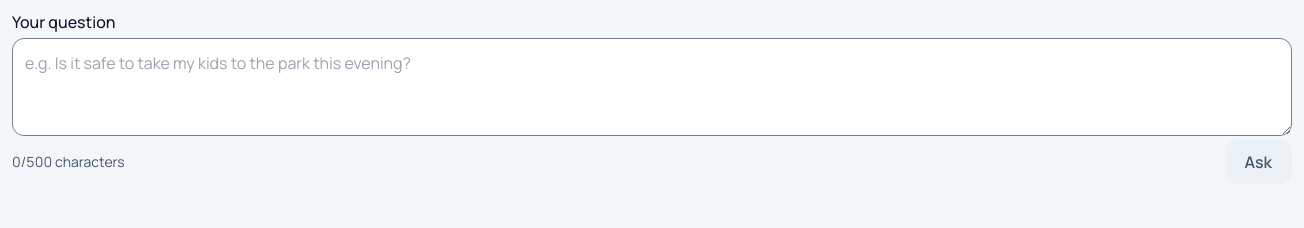
ChatPanel › shows the API error and restores the draft
Type "Hello" into the text box labelled "Your question" at coordinates (652, 87), box [12, 38, 1292, 136]
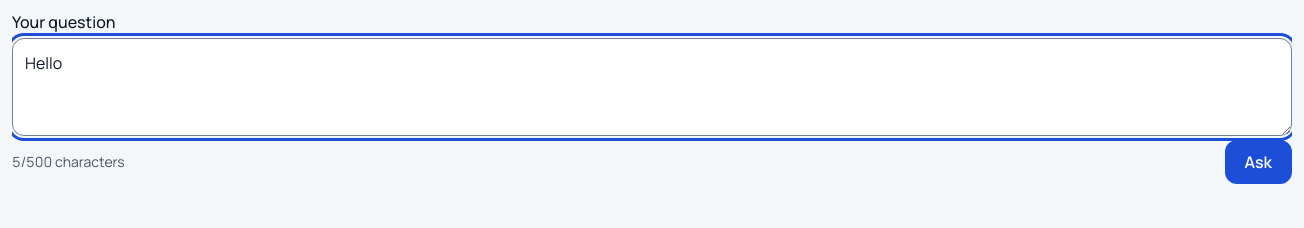
Click the button "Ask" at coordinates (1258, 162), box [1224, 140, 1292, 184]
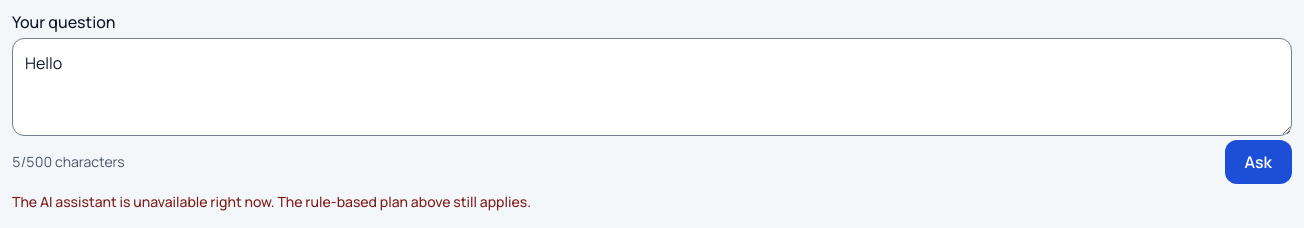
Expected: the message shows "The AI assistant is unavailable right now. The rule-based plan above still applies.", [12, 192, 531, 211]
